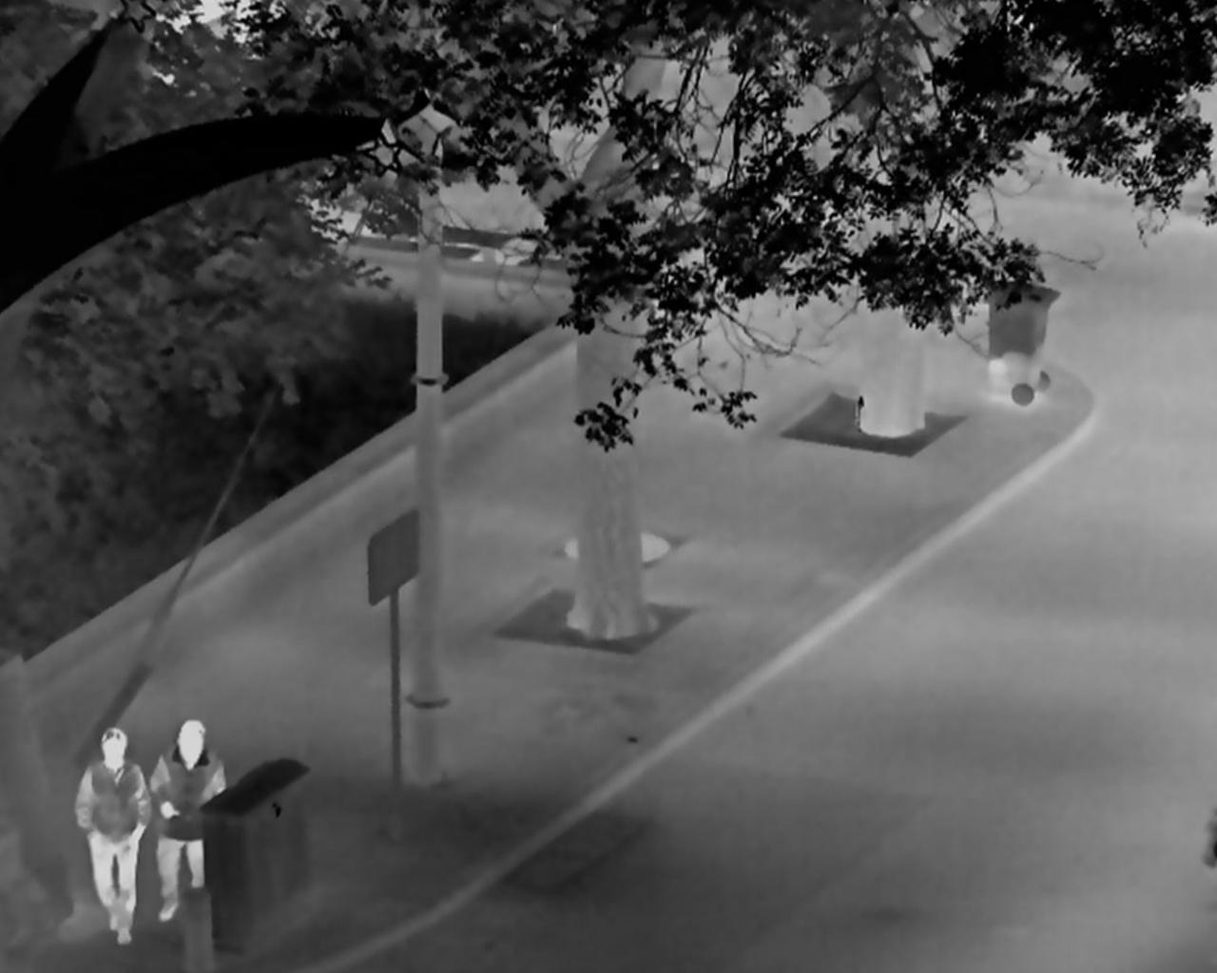person: (145, 718, 229, 922), (72, 725, 148, 945)
